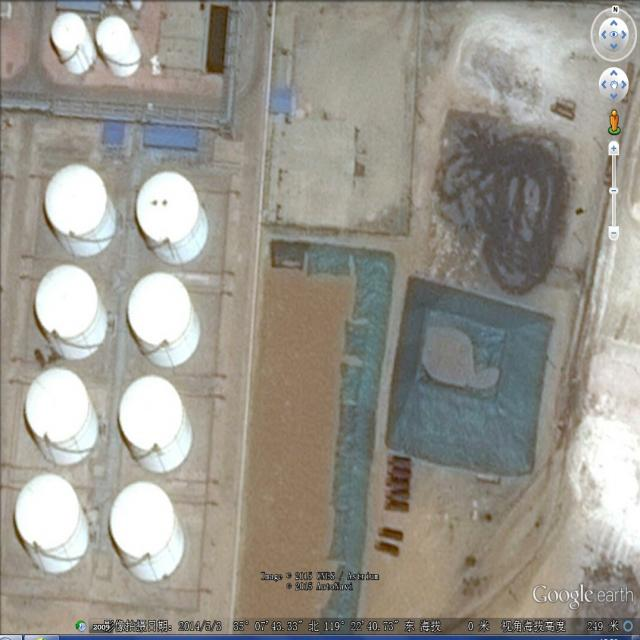oiltank: (14, 472, 93, 579), (108, 480, 188, 584), (117, 376, 197, 478), (124, 270, 203, 371), (25, 366, 101, 469), (133, 170, 211, 270), (34, 262, 110, 363), (42, 163, 119, 258), (94, 13, 145, 79), (50, 11, 97, 76)
